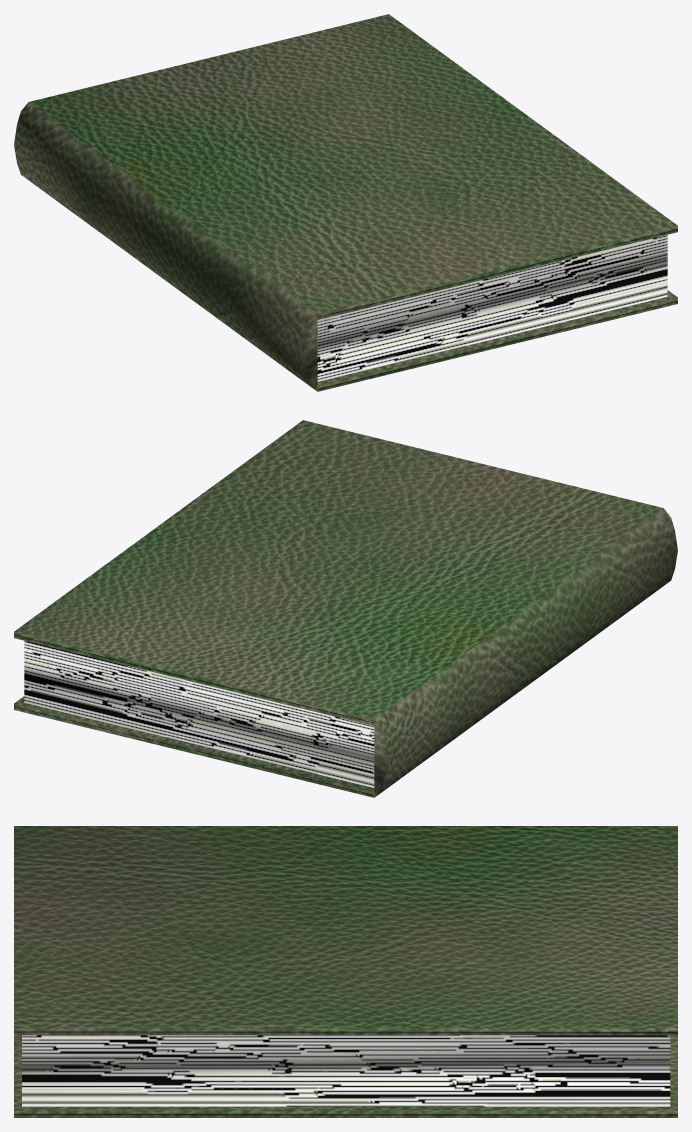
File: Book_1.fbx
3 renders of one model, top to bottom at view 1: azimuth 30°, elevation 25°; view 2: azimuth 150°, elevation 25°; view 3: azimuth 270°, elevation 25°, orthographic. The views are drawn at different scales.
Visible parts, largest first — view 1: Book; view 2: Book; view 3: Book.
Boxes of the visible parts, left/top/right/bottom form: Book: left=14, top=14, right=677, bottom=391; Book: left=14, top=420, right=677, bottom=797; Book: left=14, top=826, right=677, bottom=1117.
Bounding box in the file's own units: 14.85 × 2.96 × 19.84.
Materials: 1 (1 with a texture image).
